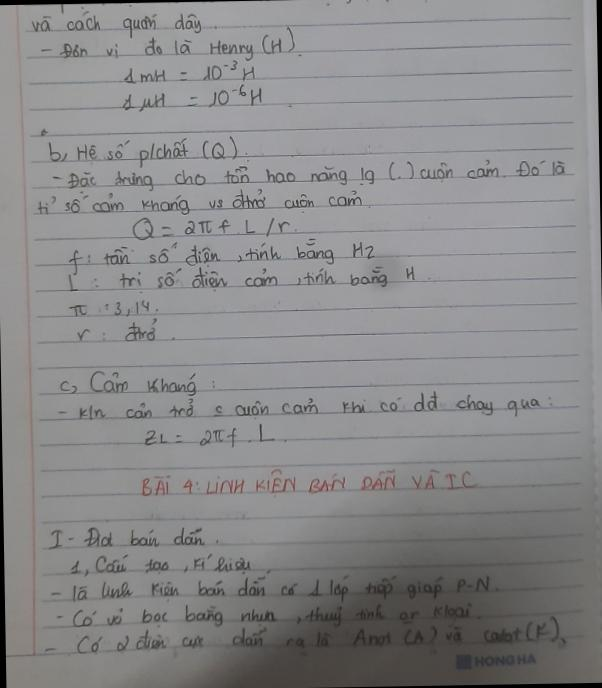text: (49, 148, 568, 198), (41, 612, 564, 658), (54, 384, 554, 427), (48, 570, 500, 608), (52, 596, 480, 633), (138, 463, 482, 502), (67, 235, 379, 277), (32, 187, 368, 222), (63, 263, 418, 296), (37, 25, 299, 67), (33, 0, 560, 15), (45, 132, 241, 166), (26, 6, 204, 42), (68, 549, 256, 581), (116, 80, 265, 116), (130, 212, 291, 245), (44, 522, 208, 554), (56, 366, 201, 402), (119, 57, 259, 87), (140, 420, 280, 450), (73, 316, 160, 347), (66, 297, 152, 321), (473, 650, 538, 671)
